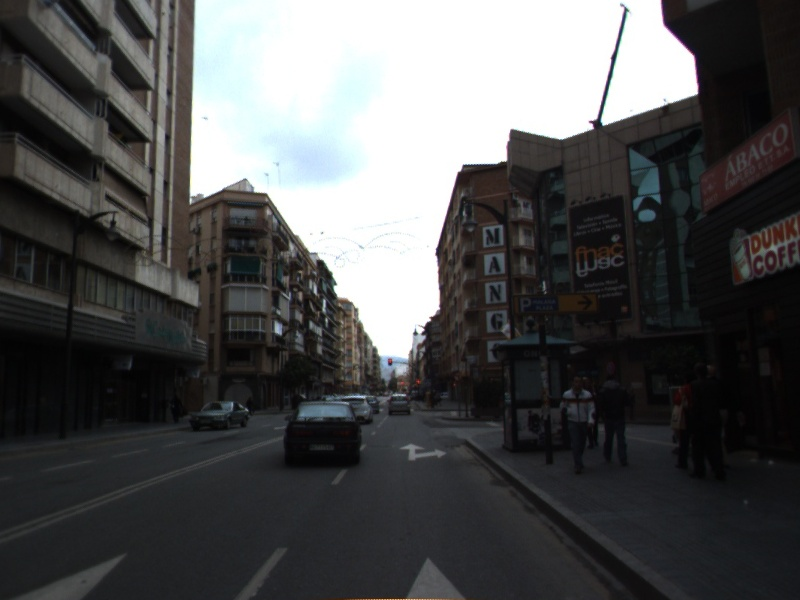STRAIGHT_RIGHT: (397, 441, 449, 462)
